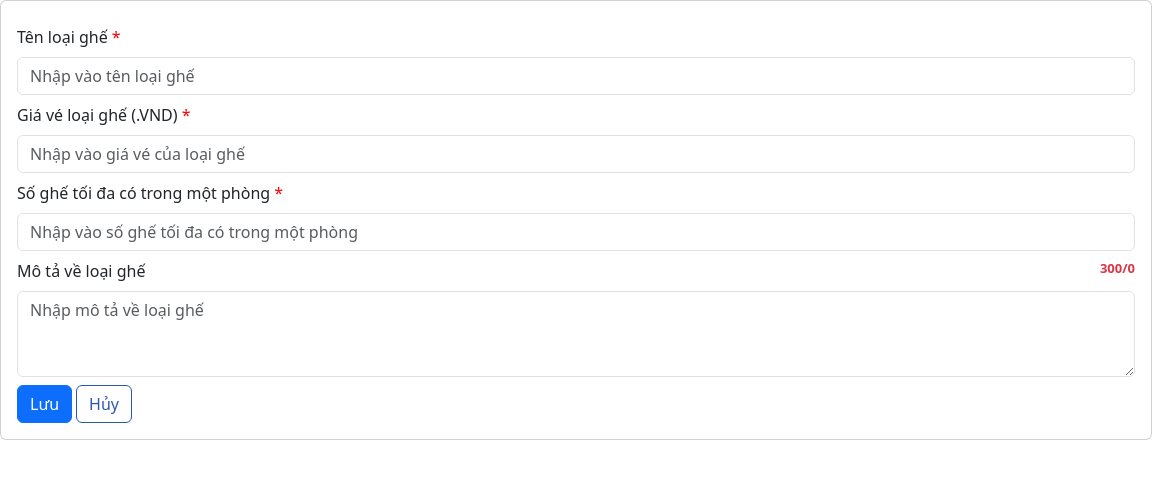
Test: FormChairCategory › func check chairCategory start with number (TC 4)
This screenshot has width=1152, height=483.
Nhập dữ liệu vào các trường input sử dụng fireEvent.change
Type "12VP" into the field with placeholder "Nhập vào tên loại ghế" at (576, 76), box [17,57,1135,95]
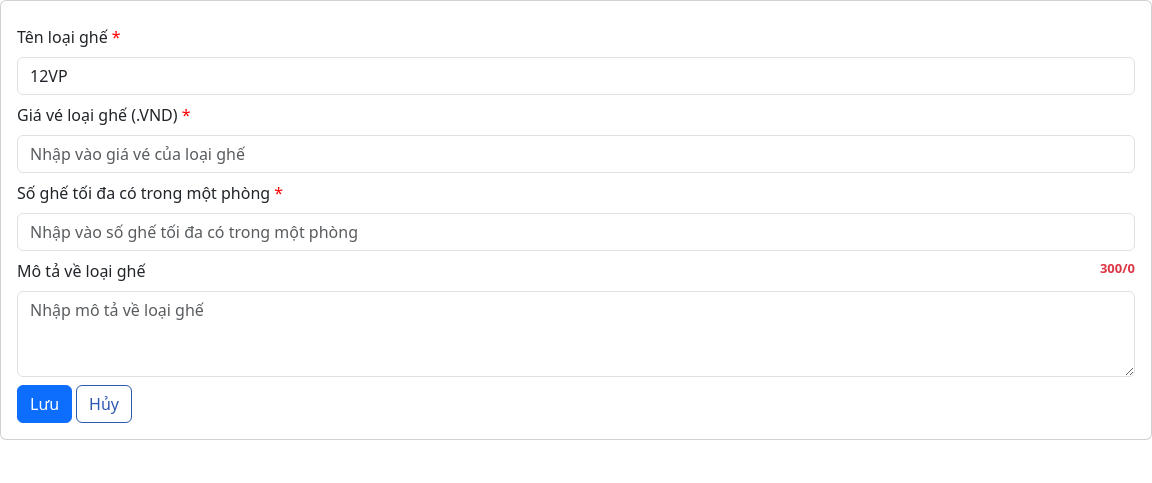
Type "Loại ghế cao cấp với nhiều tiện nghi." into the text box with placeholder "Nhập mô tả về loại ghế" at (576, 334), box [17,291,1135,377]
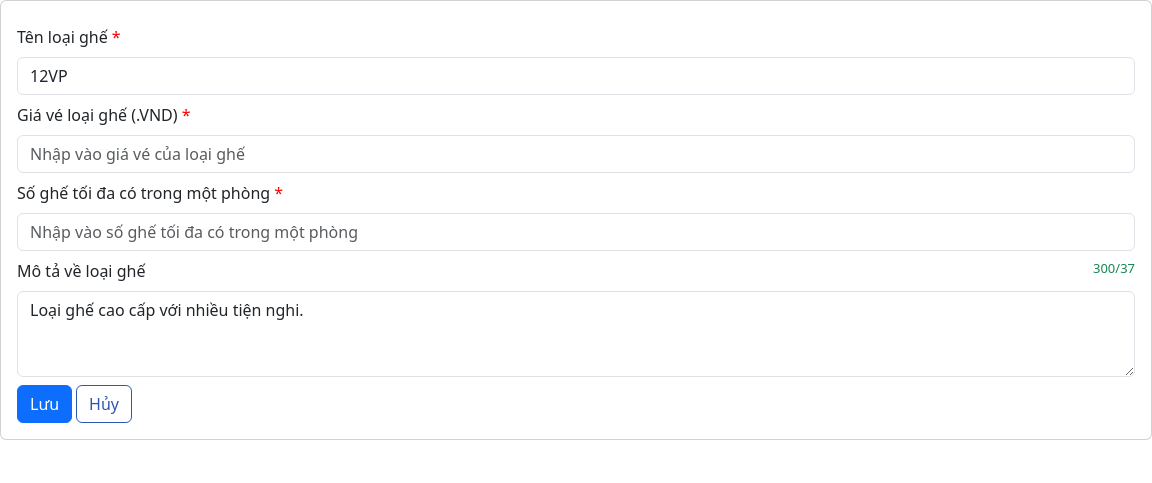
Type "150000" into the number field with placeholder "Nhập vào giá vé của loại ghế" at (576, 154), box [17,135,1135,173]
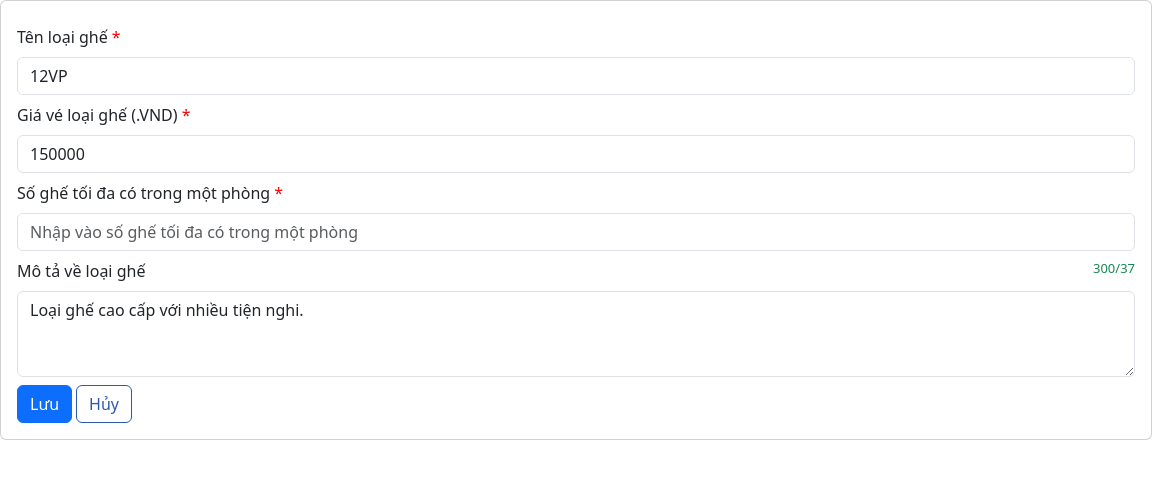
Type "50" into the number field with placeholder "Nhập vào số ghế tối đa có trong một phòng" at (576, 232), box [17,213,1135,251]
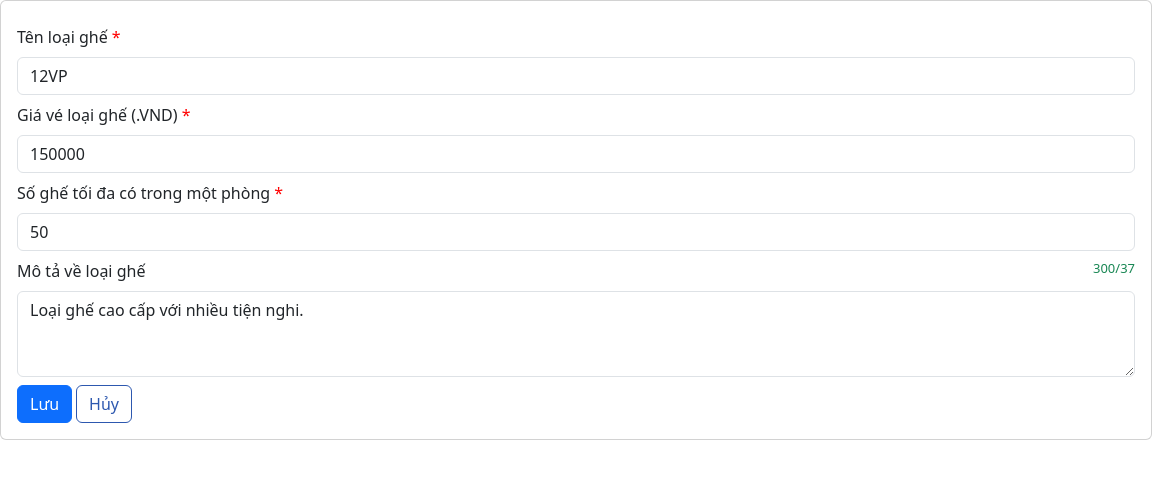
Bấm nút "Lưu" mà không nhập bất kỳ dữ liệu nào
Click the button "Lưu" at (45, 404), box [17,385,72,423]
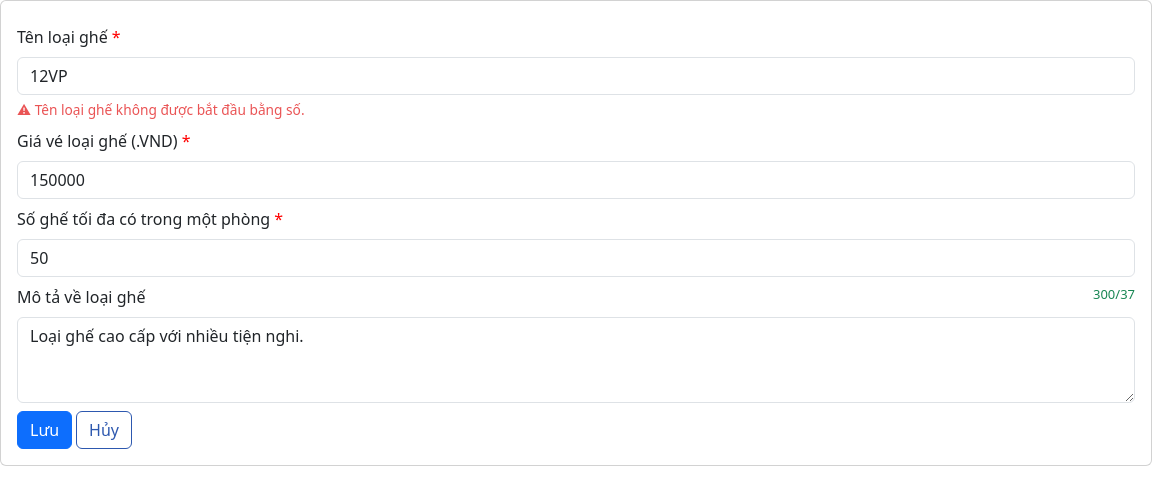
Now the text "Tên loại ghế không được bắt đầu bằng số." is shown, box [35,100,304,119]
